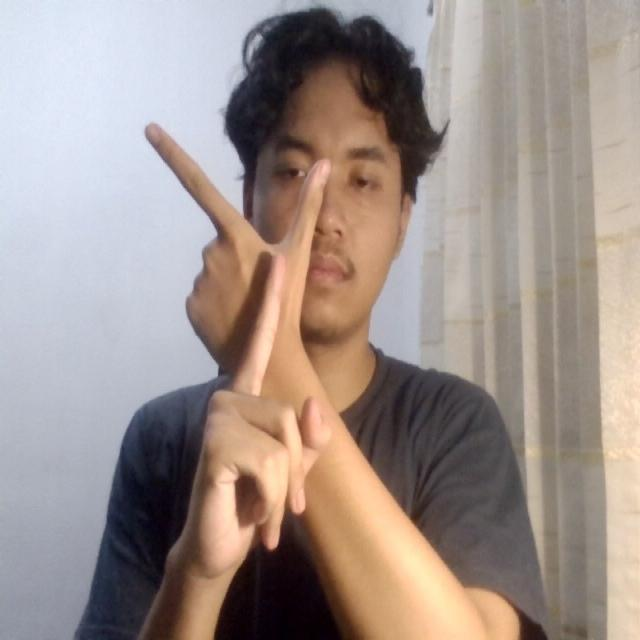No: (130, 99, 376, 573)
